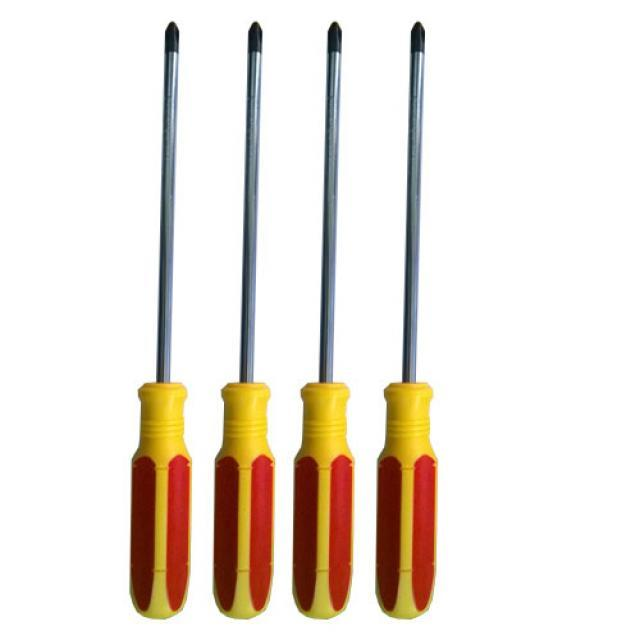screwdriver: (118, 16, 198, 623), (285, 13, 363, 621), (206, 13, 278, 620), (371, 18, 443, 621)
